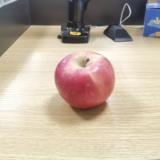apple: (55, 51, 116, 109)
